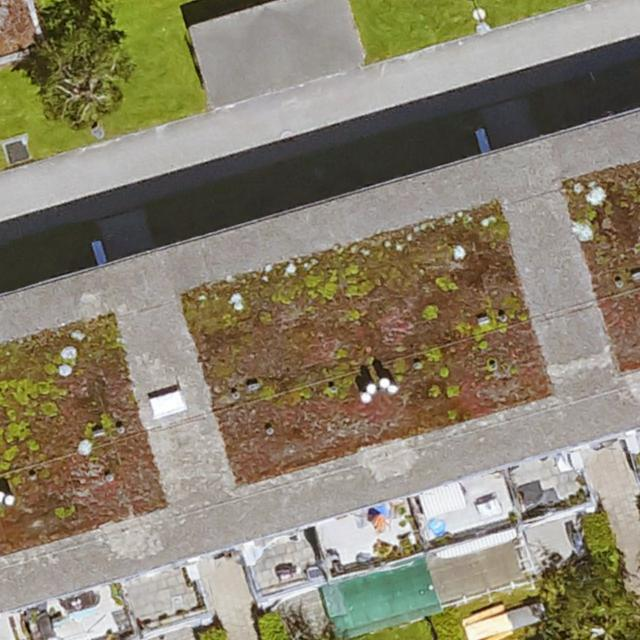tree: (34, 8, 120, 123), (550, 565, 640, 640)
